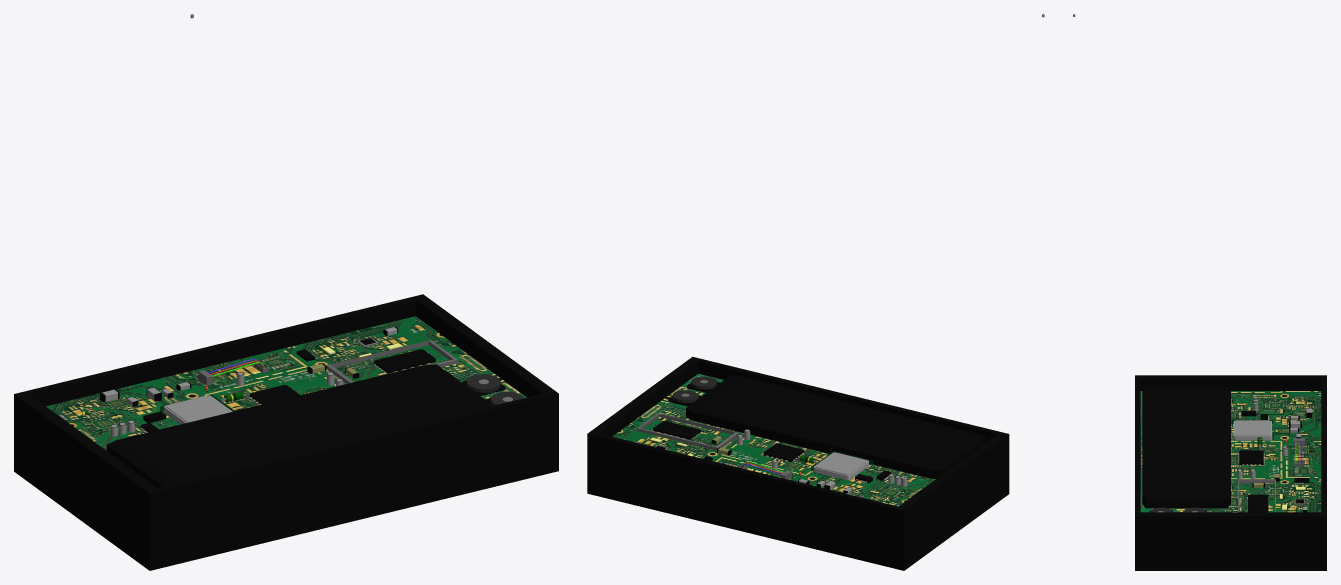
The model's file is 本番ステージ 1.fbx.
3 views of the same model, side by side, from view 1: azimuth 30°, elevation 25°; view 2: azimuth 150°, elevation 25°; view 3: azimuth 270°, elevation 25° (orthographic). The views are drawn at different scales.
Parts seen in each view (by area): view 1: 立方体.001, 立方体.029, 立方体.028, CPU, 立方体.034, 立方体.035; view 2: 立方体.001, 立方体.029, 立方体.028, CPU, 立方体.034; view 3: 立方体.001, 立方体.029, 立方体.028, CPU, 立方体.037, 立方体.035.
Boxes of the visible parts, <box> form: 立方体.001: <box>14,294,558,570</box>; 立方体.029: <box>106,364,492,487</box>; 立方体.028: <box>46,316,526,450</box>; CPU: <box>160,394,233,424</box>; 立方体.034: <box>326,340,458,383</box>; 立方体.035: <box>374,349,435,373</box>; 立方体.001: <box>587,356,1009,570</box>; 立方体.029: <box>686,375,986,478</box>; 立方体.028: <box>612,373,935,506</box>; CPU: <box>811,451,873,480</box>; 立方体.034: <box>637,413,738,450</box>; 立方体.001: <box>1135,375,1326,570</box>; 立方体.029: <box>1142,386,1230,508</box>; 立方体.028: <box>1140,391,1321,512</box>; CPU: <box>1231,420,1272,440</box>; 立方体.037: <box>1238,450,1264,465</box>; 立方体.035: <box>1247,494,1268,512</box>.
Size of the model in its own units: 1106 by 1511 by 837.
